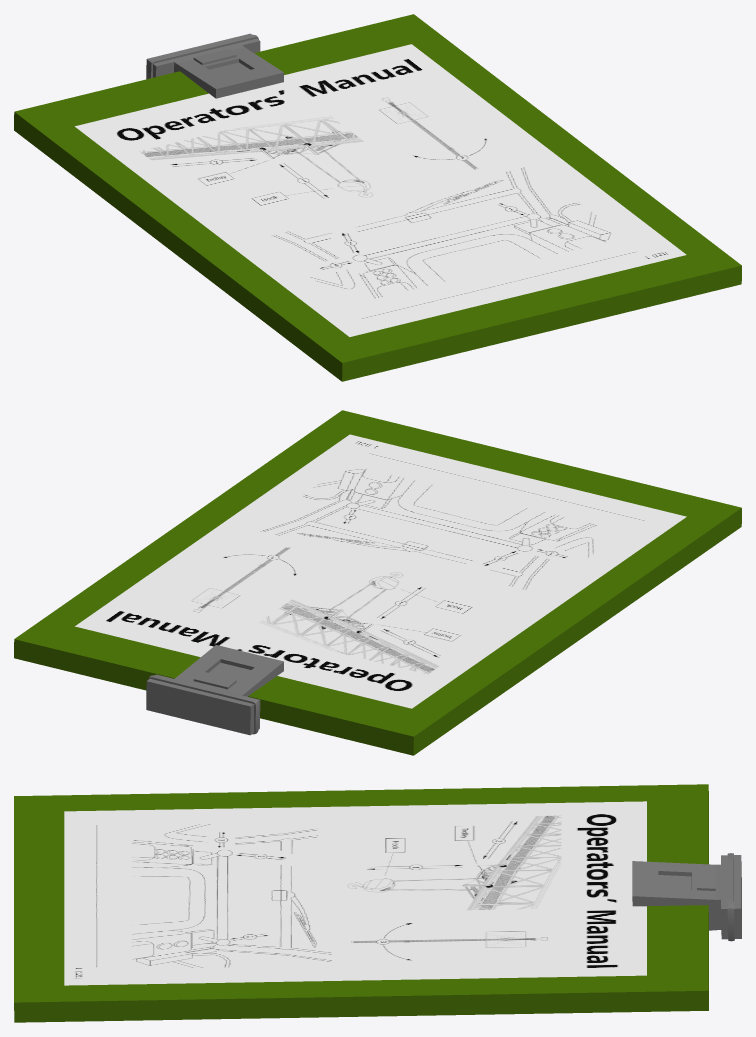
File: FbxClipboard.fbx
3 views of the same model, one above another, from view 1: azimuth 30°, elevation 25°; view 2: azimuth 150°, elevation 25°; view 3: azimuth 270°, elevation 25° (orthographic). The views are drawn at different scales.
Parts seen in each view (by area): view 1: clipboard; view 2: clipboard; view 3: clipboard.
Boxes of the visible parts, box(x1,y1,x2,y2) form: clipboard: box(14, 14, 741, 381); clipboard: box(14, 410, 741, 755); clipboard: box(14, 784, 741, 1022).
Bounding box in the file's own units: 8.87 × 0.8184 × 13.22.
3 materials, 1 textured.
